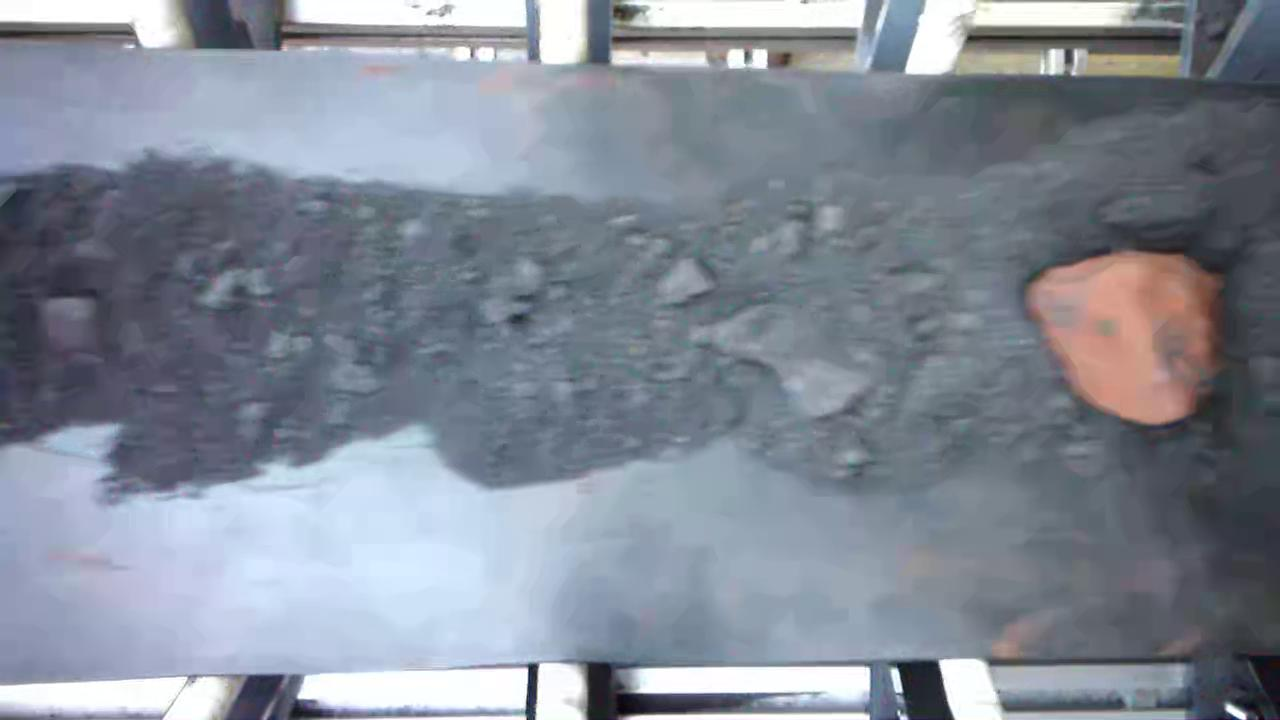conveyor: (9, 84, 1275, 645)
